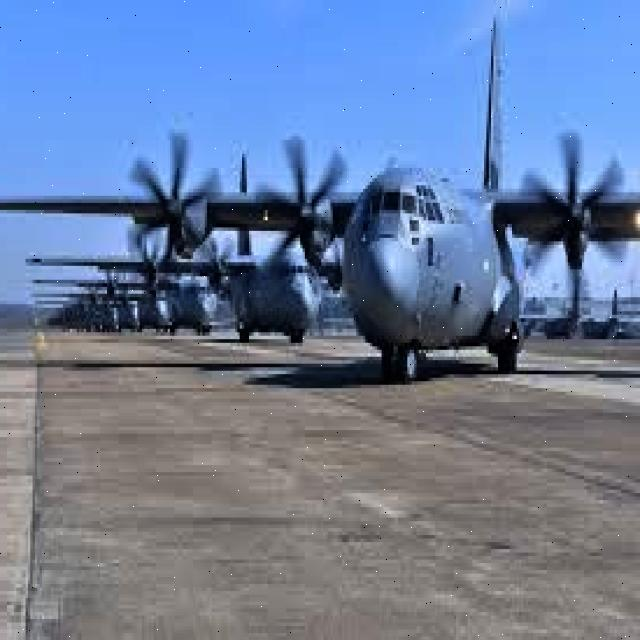C130: (0, 9, 639, 422)
